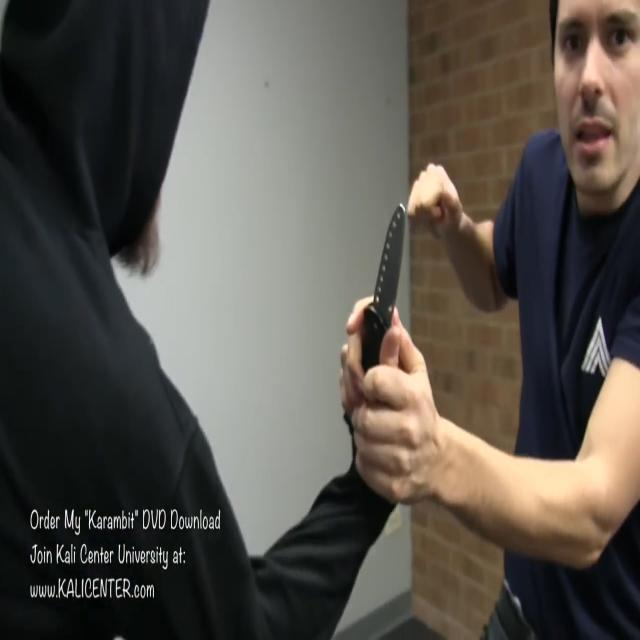knife: (368, 197, 408, 366)
